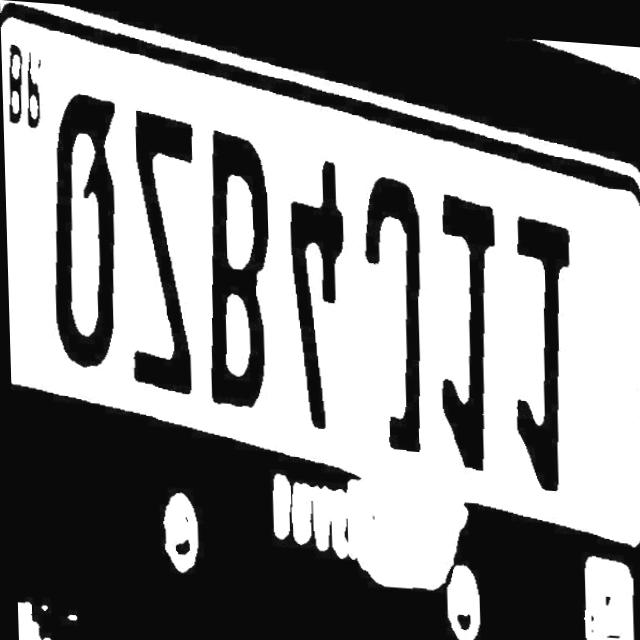1: (428, 182, 507, 474), (506, 201, 585, 488)
4: (279, 146, 358, 434)
b: (198, 125, 279, 414)
j: (352, 163, 431, 449)
q: (42, 81, 128, 374)
z: (119, 102, 203, 396)
